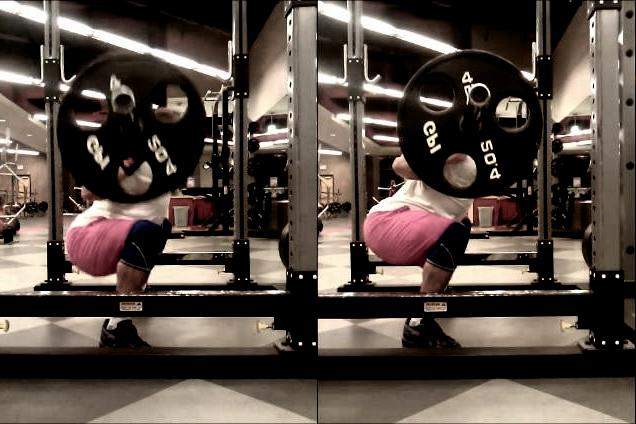Barbell: (107, 85, 136, 118), (464, 83, 491, 108)
